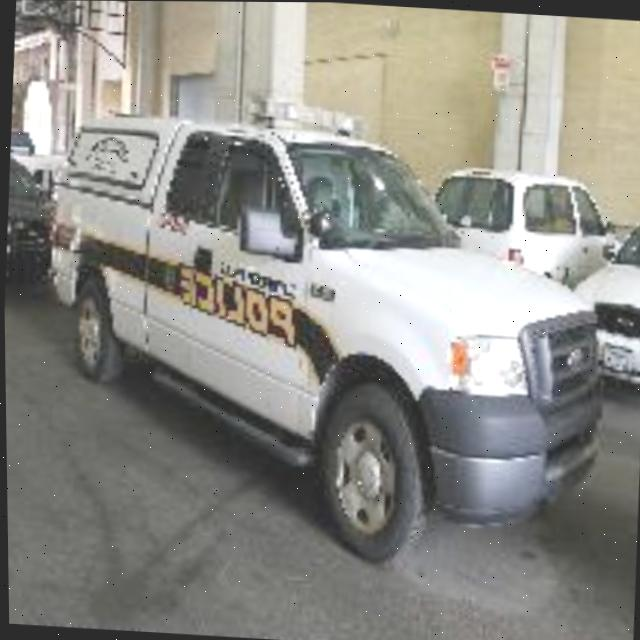emergency: (34, 82, 618, 570)
